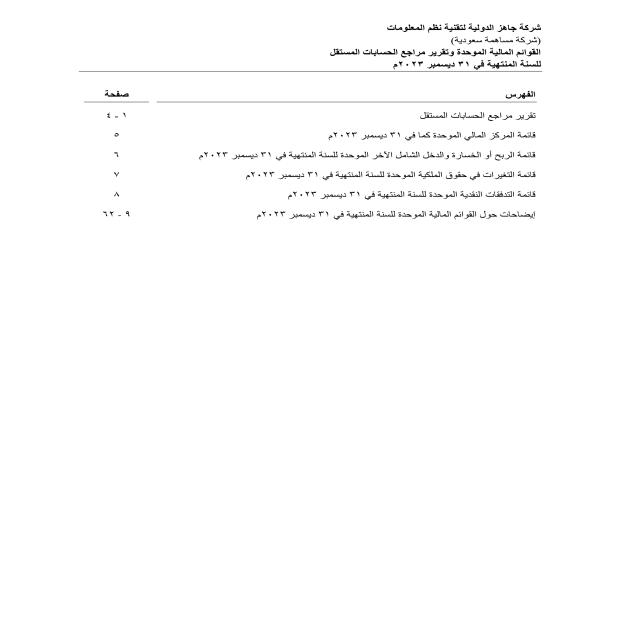other: (76, 81, 550, 243)
